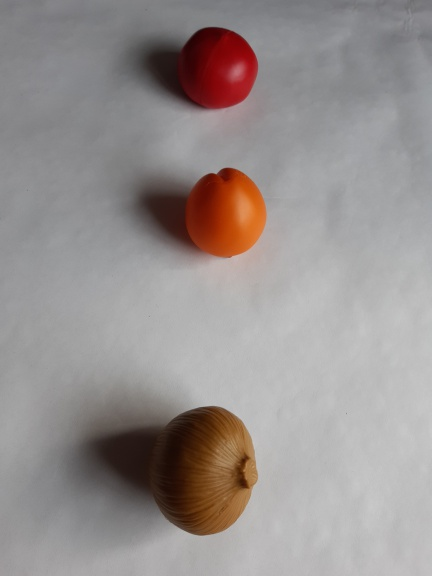apricot: (182, 161, 272, 265)
onion: (139, 399, 265, 543)
tomato: (172, 24, 265, 115)
